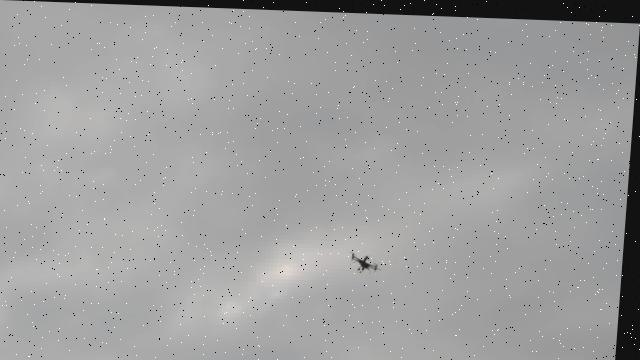drone: (351, 247, 386, 274)
